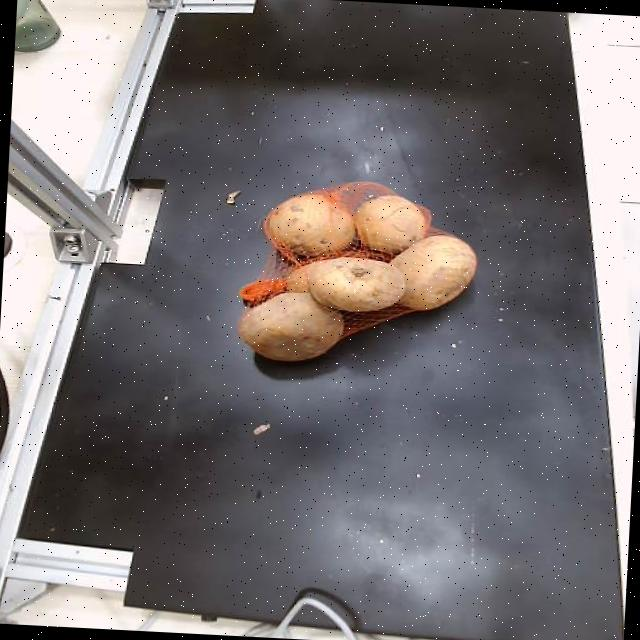potato: (238, 292, 343, 361), (390, 235, 477, 310), (262, 193, 354, 257), (303, 257, 405, 310), (354, 196, 429, 254), (286, 267, 308, 292)
